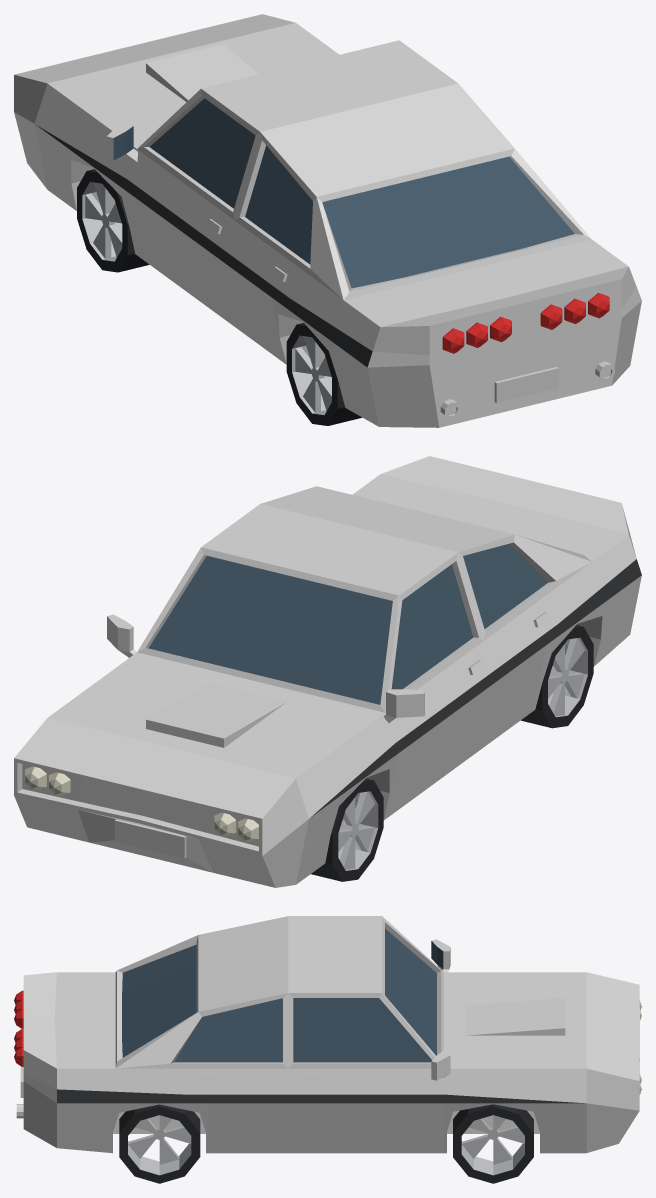
Rendered from muscle.glb.
3 views of the same model, one above another, from view 1: azimuth 30°, elevation 25°; view 2: azimuth 150°, elevation 25°; view 3: azimuth 270°, elevation 25° (orthographic). The views are drawn at different scales.
Parts seen in each view (by area): view 1: Body, Wheel_FL, Wheel_RL; view 2: Body, Wheel_FL, Wheel_RL; view 3: Body, Wheel_RR, Wheel_FR.
Part boxes in pixels (left/top/right/bottom): Body: left=14, top=14, right=641, bottom=427; Wheel_FL: left=77, top=169, right=149, bottom=272; Wheel_RL: left=286, top=323, right=361, bottom=425; Body: left=14, top=456, right=641, bottom=887; Wheel_FL: left=311, top=778, right=383, bottom=881; Wheel_RL: left=521, top=625, right=593, bottom=728; Body: left=14, top=916, right=641, bottom=1153; Wheel_RR: left=119, top=1104, right=200, bottom=1183; Wheel_FR: left=453, top=1104, right=533, bottom=1183.
Size of the model in its own units: 2.81 by 1.91 by 6.06.
